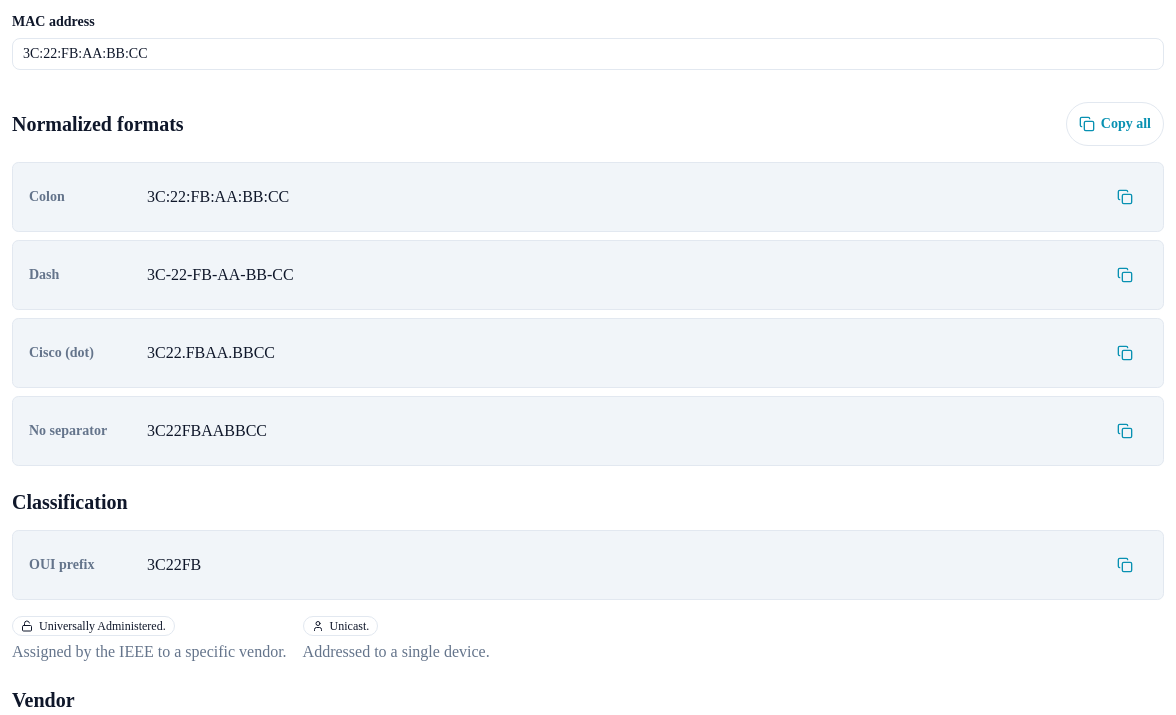
Scenario: MacTool › shows the D-07 neutral incomplete-input note and keeps the last valid result visible (dimmed, not blanked)
The image size is (1176, 715).
Replace the text in the field with test id "mac-input" with "00:1A": (588, 54) [12,38,1164,70]
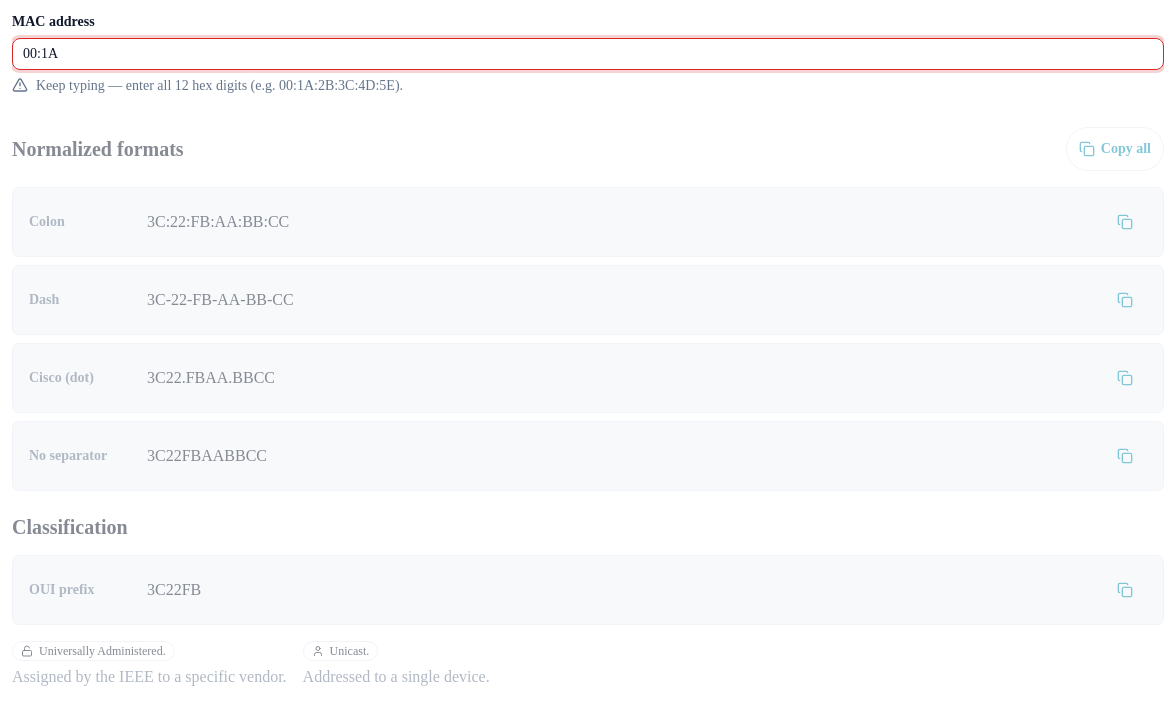
Expected: the text with test id "mac-format-colon-value" reads "3C:22:FB:AA:BB:CC", [147,213,289,230]
Result: the element with test id "mac-state-incomplete" reads "Keep typing — enter all 12 hex digits (e.g. 00:1A:2B:3C:4D:5E)." at [36,78,403,93]
